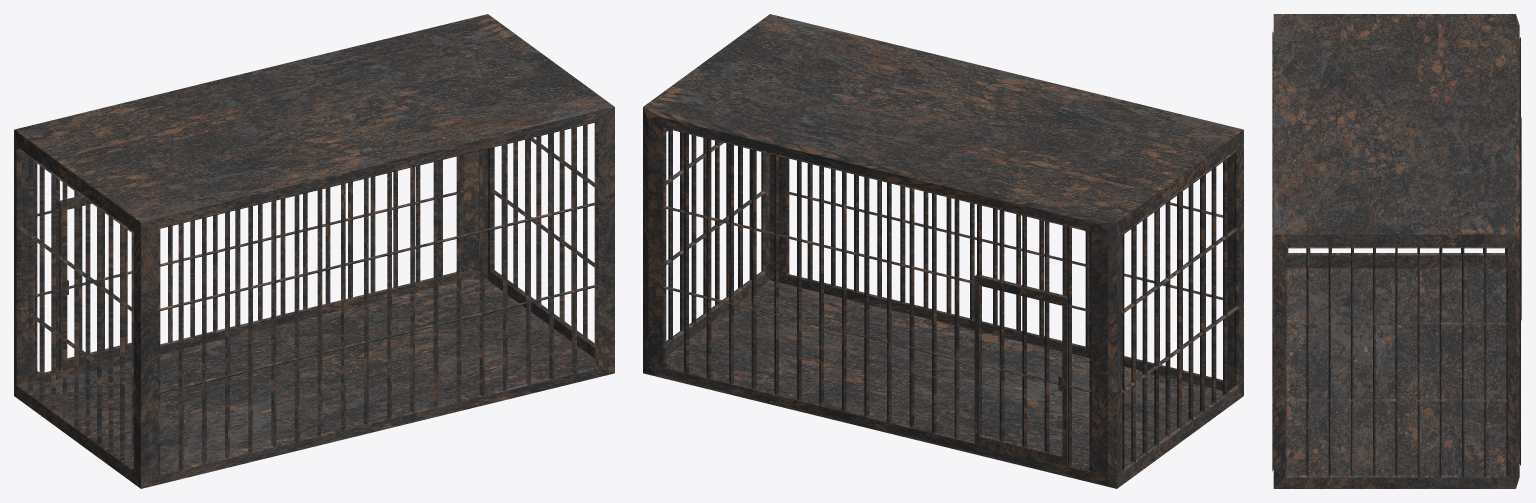
Rendered from prizon.fbx.
The picture shows the model from 3 angles, left to right: view 1: azimuth 30°, elevation 25°; view 2: azimuth 150°, elevation 25°; view 3: azimuth 270°, elevation 25°; orthographic projection. The views are drawn at different scales.
Visible parts, largest first — view 1: Cube, Cube.001, Plane; view 2: Cube, Cube.001, Plane; view 3: Cube, Cube.001.
Part boxes in pixels (bbox=[...]): Cube: bbox=[14, 14, 614, 488]; Cube.001: bbox=[16, 120, 598, 475]; Plane: bbox=[59, 196, 131, 370]; Cube: bbox=[643, 14, 1243, 488]; Cube.001: bbox=[663, 127, 1239, 472]; Plane: bbox=[974, 274, 1067, 466]; Cube: bbox=[1273, 14, 1519, 488]; Cube.001: bbox=[1272, 31, 1520, 477].
Bounding box in the file's own units: 429 × 228 × 203.
